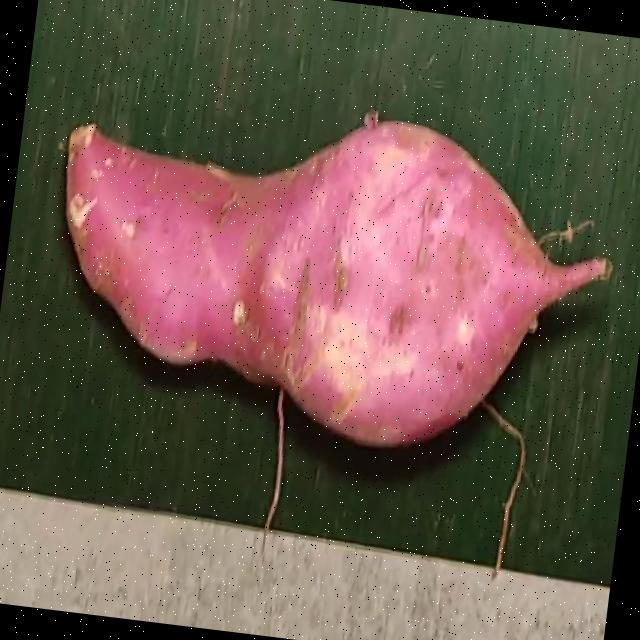Sweet Potato: (63, 108, 611, 445)
